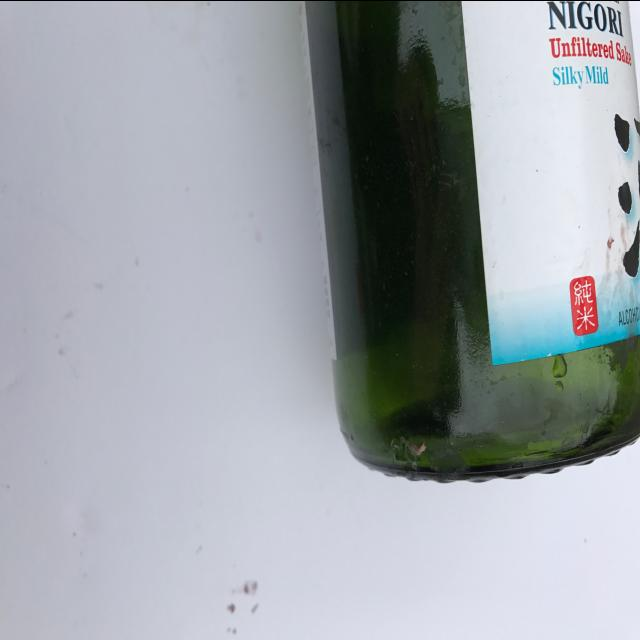glass: (286, 2, 638, 488)
